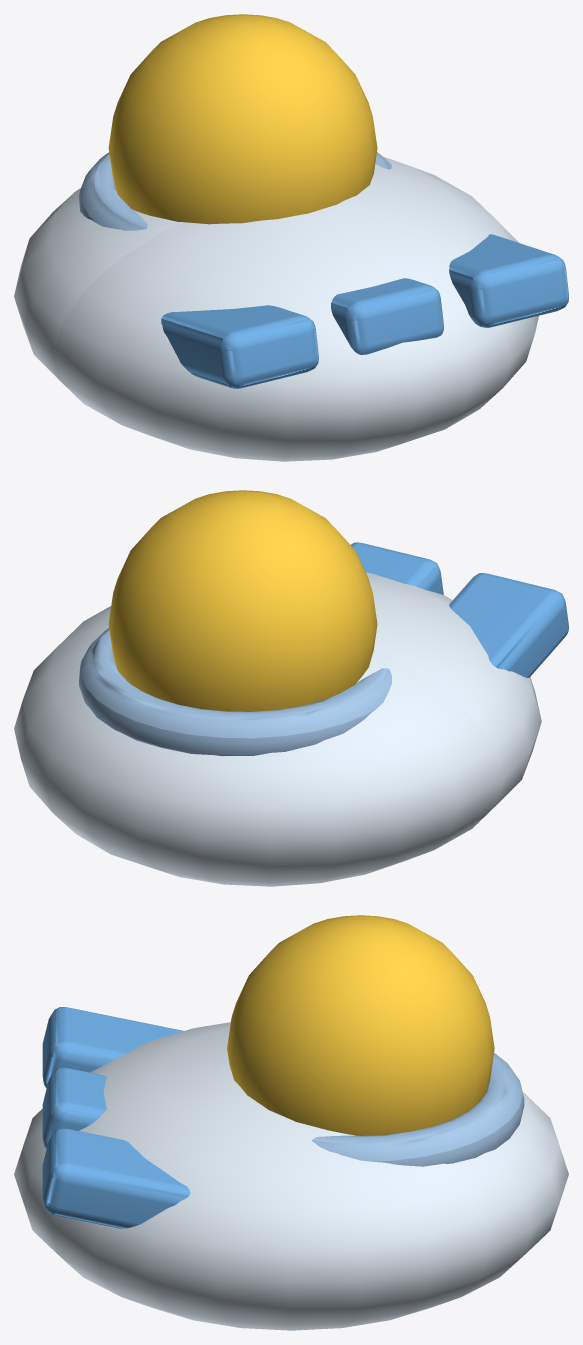
File: pcv_trackball_palm_socket.glb
3 views of the same model, one above another, from view 1: azimuth 30°, elevation 25°; view 2: azimuth 150°, elevation 25°; view 3: azimuth 270°, elevation 25° (orthographic).
Visible parts, largest first — view 1: pcv_trackball_palm_socket_MOBILE_JOINED; view 2: pcv_trackball_palm_socket_MOBILE_JOINED; view 3: pcv_trackball_palm_socket_MOBILE_JOINED.
Part boxes in pixels (left/top/right/bottom): pcv_trackball_palm_socket_MOBILE_JOINED: left=14, top=14, right=568, bottom=461; pcv_trackball_palm_socket_MOBILE_JOINED: left=14, top=490, right=568, bottom=886; pcv_trackball_palm_socket_MOBILE_JOINED: left=14, top=915, right=568, bottom=1330.
Bounding box in the file's own units: 1.04 × 0.8 × 1.12.
